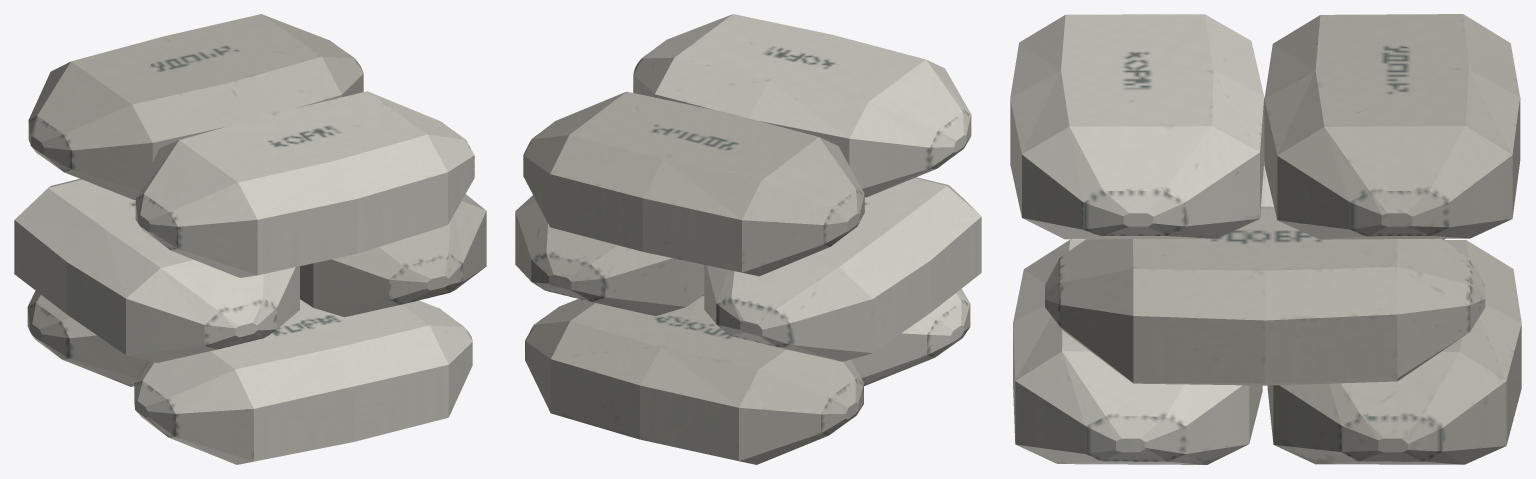
The model's file is farmland_feed_sack_stack_stack.glb.
The picture shows the model from 3 angles, left to right: view 1: azimuth 30°, elevation 25°; view 2: azimuth 150°, elevation 25°; view 3: azimuth 270°, elevation 25°; orthographic projection. The views are drawn at different scales.
Parts seen in each view (by area): view 1: FeedSacksStack; view 2: FeedSacksStack; view 3: FeedSacksStack.
Part boxes in pixels (x1,y1,x2,y2): FeedSacksStack: (14, 14, 486, 464); FeedSacksStack: (515, 14, 981, 464); FeedSacksStack: (1010, 14, 1521, 464).
Size of what is drawn, in the model's own units: 0.85 by 0.62 by 0.85.
1 material, 1 textured.
